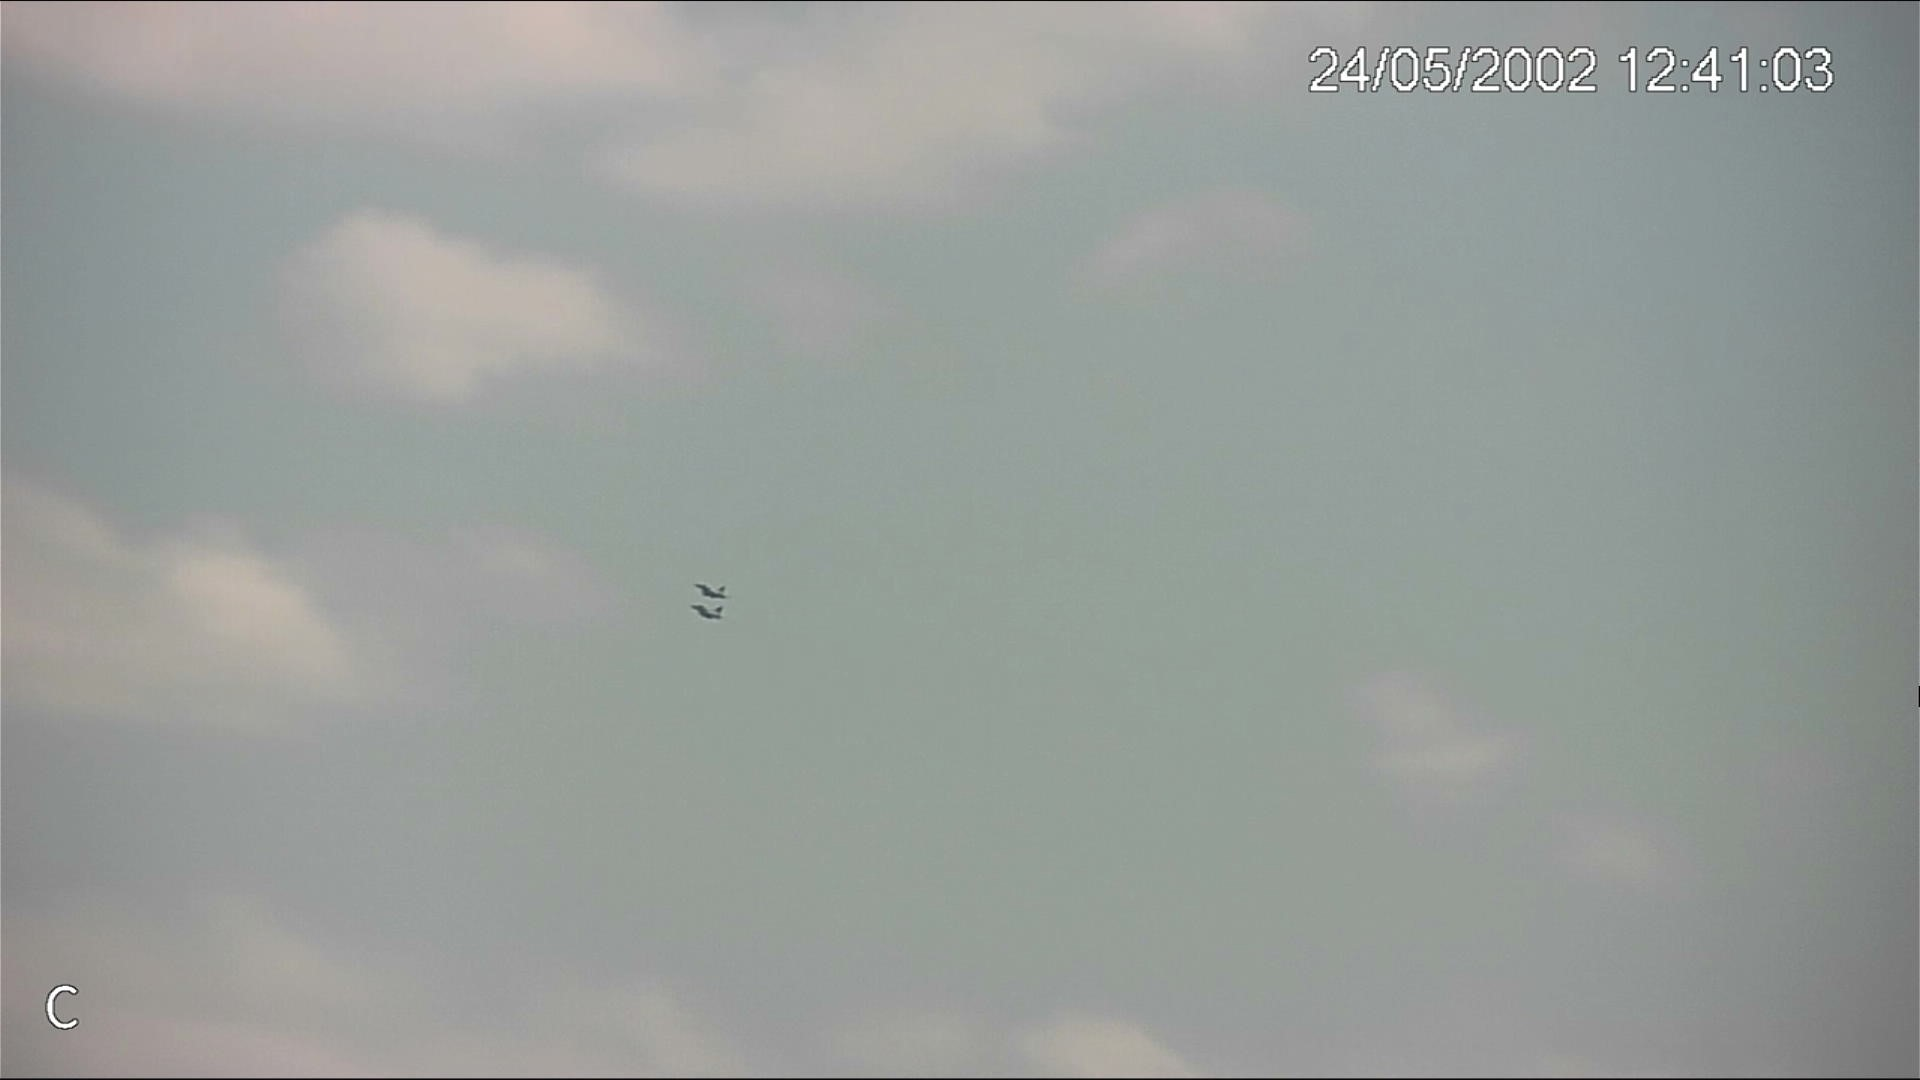SU_30: (694, 579, 735, 601), (692, 608, 727, 624)
